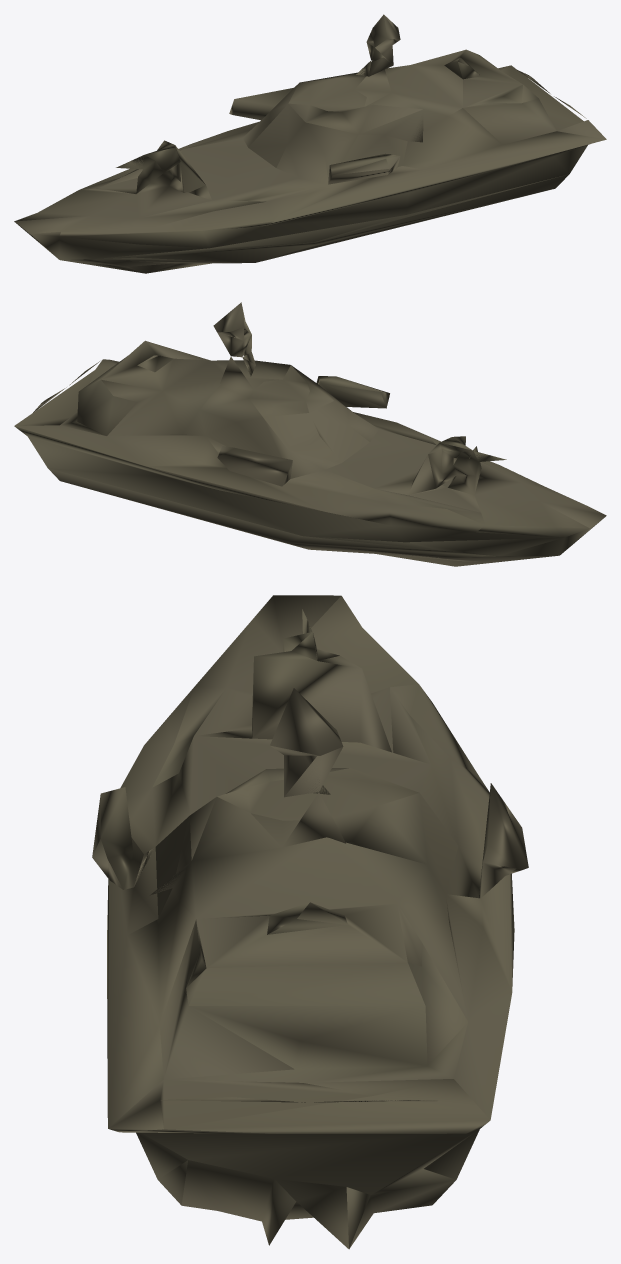
Rendered from irgc-fast-attack-craft-meshy-ultra-v2.glb.
3 renders of one model, top to bottom at view 1: azimuth 30°, elevation 25°; view 2: azimuth 150°, elevation 25°; view 3: azimuth 270°, elevation 25°, orthographic. The views are drawn at different scales.
Size of the model in its own units: 1.86 by 0.6817 by 0.6563.
